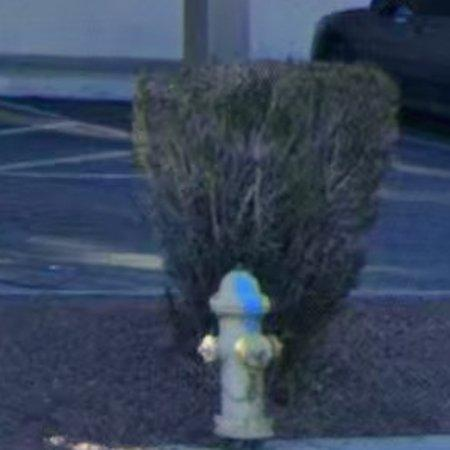a fire hydrant: (198, 270, 283, 441)
